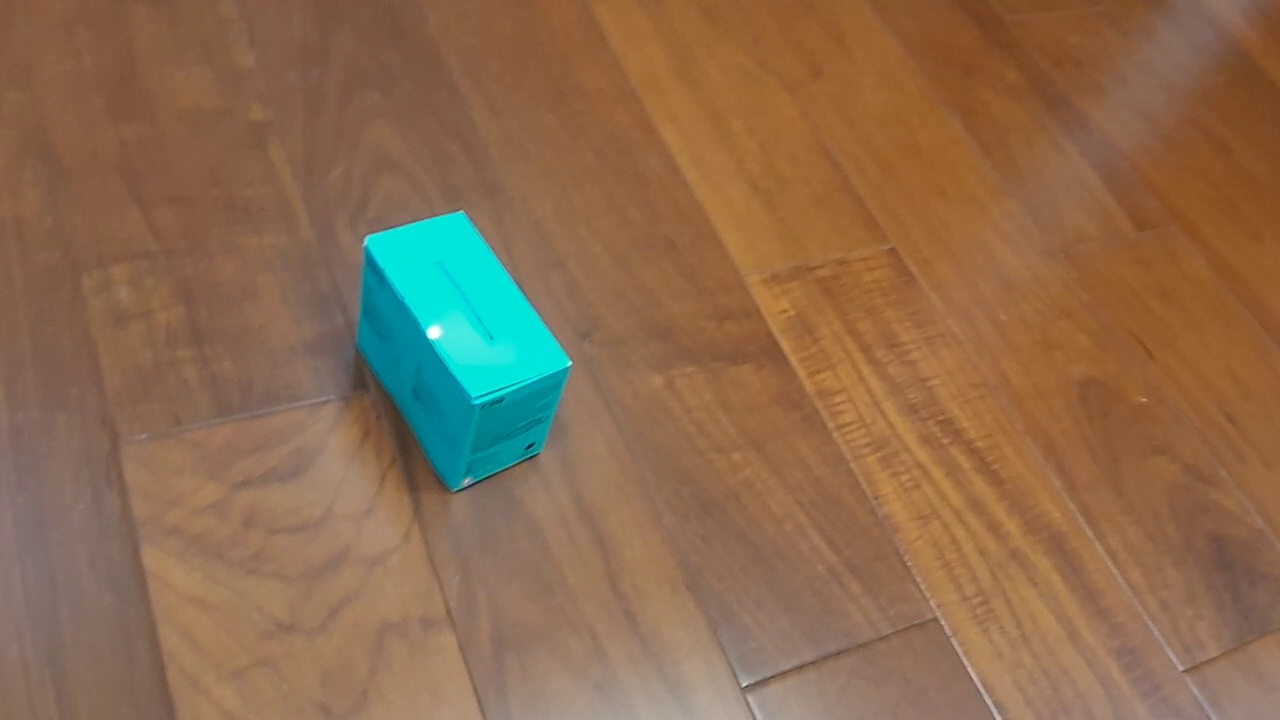webcam: (355, 209, 573, 494)
